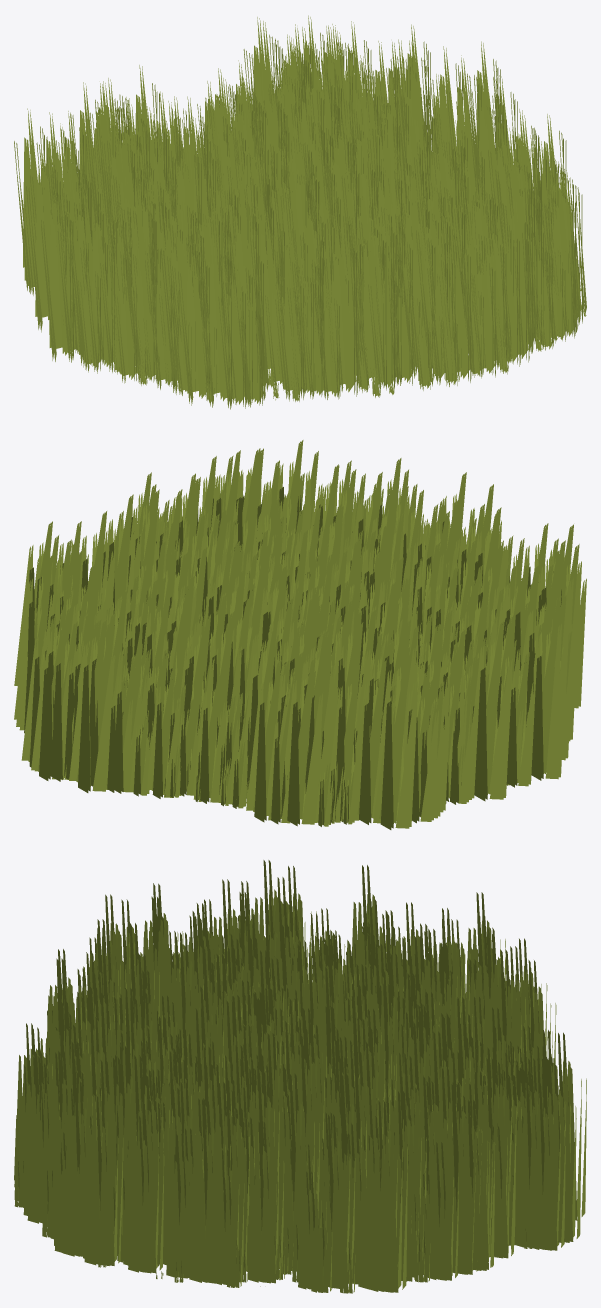
Rendered from daun3.fbx.
The picture shows the model from 3 angles, top to bottom: view 1: azimuth 30°, elevation 25°; view 2: azimuth 150°, elevation 25°; view 3: azimuth 270°, elevation 25°; orthographic projection. The views are drawn at different scales.
Visible parts, largest first — view 1: GrassGreen.001, GrassGreen; view 2: GrassGreen, GrassGreen.001; view 3: GrassGreen.001, GrassGreen.
Boxes of the visible parts, left/top/right/bottom form: GrassGreen.001: left=16, top=17, right=586, bottom=409; GrassGreen: left=14, top=15, right=584, bottom=407; GrassGreen: left=14, top=441, right=584, bottom=829; GrassGreen.001: left=30, top=440, right=586, bottom=828; GrassGreen.001: left=14, top=860, right=581, bottom=1293; GrassGreen: left=20, top=860, right=586, bottom=1293.
Bounding box in the file's own units: 255 × 87.52 × 234.
